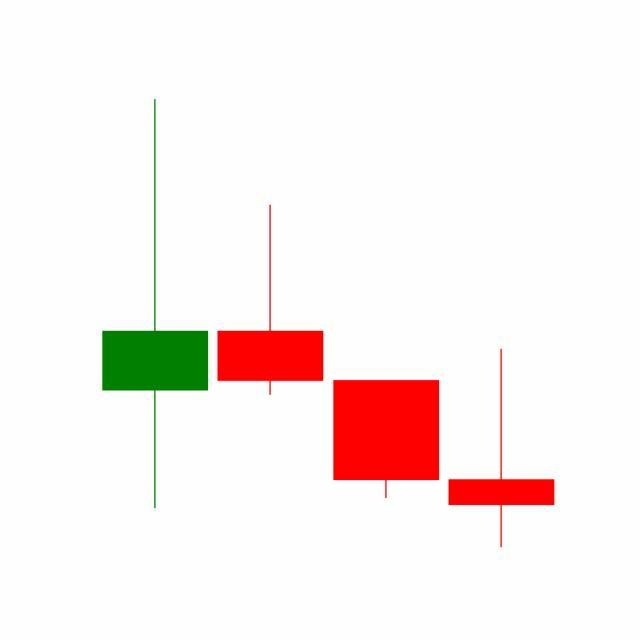Spinning Top: (444, 347, 560, 551)
